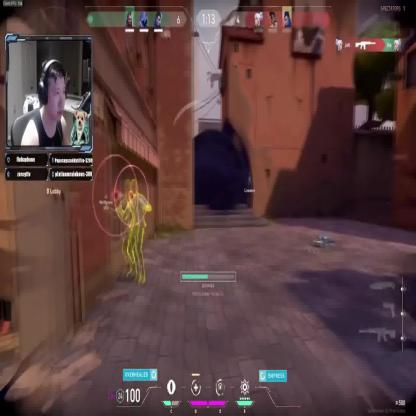enemy: (119, 178, 152, 284)
enemy_head: (130, 180, 138, 196)
